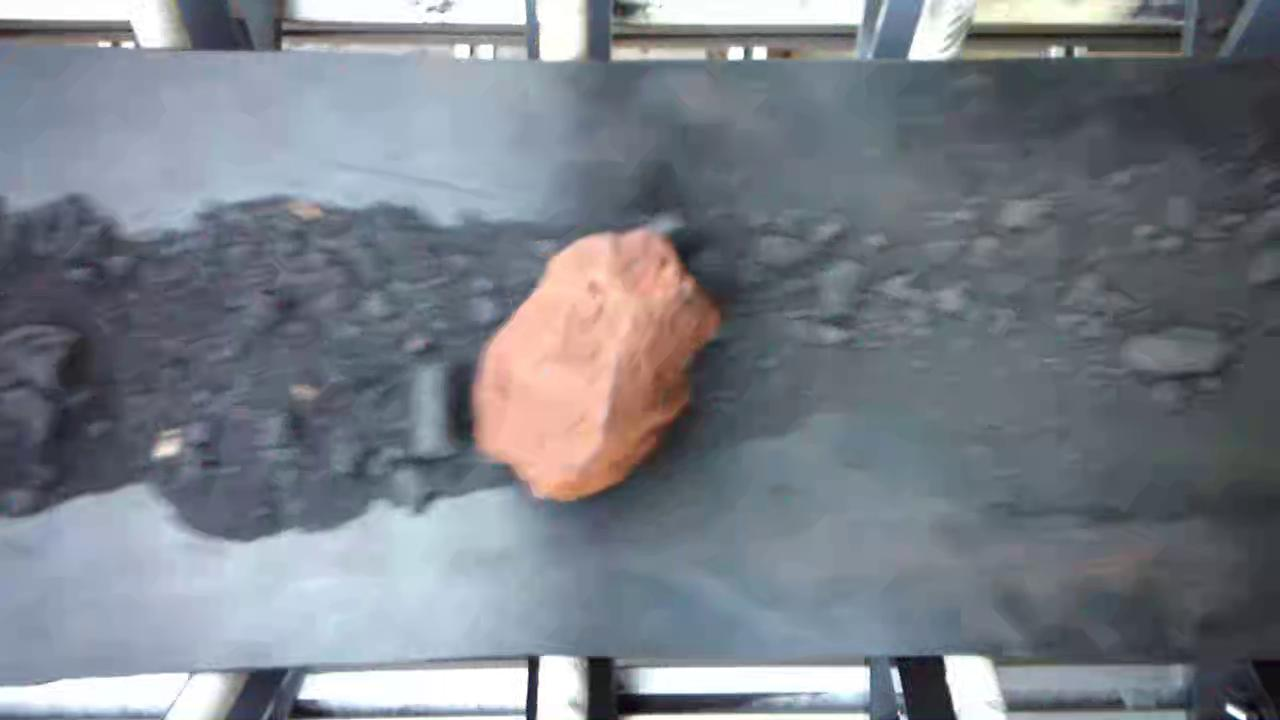conveyor: (13, 67, 1261, 641)
